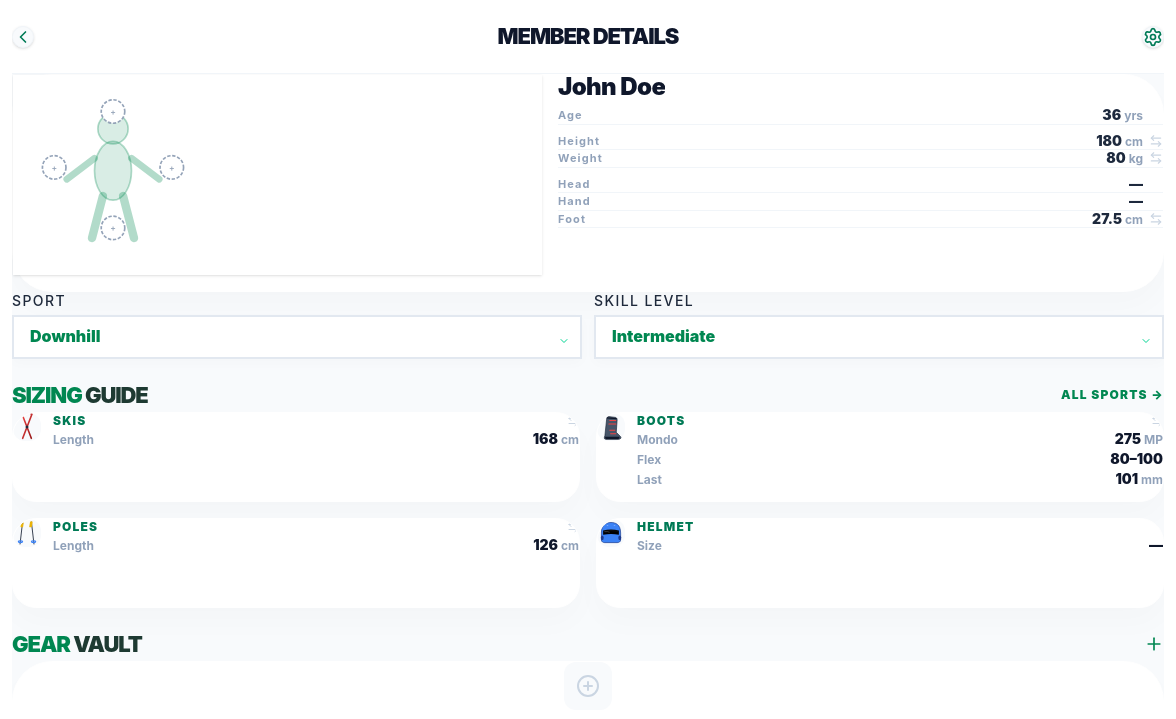
Test: MemberDetail › unit toggles › toggles height from cm to ft format when clicked
Step 1. Click the button with aria-label "toggle height units" → (1130, 141), box [1096, 134, 1163, 148]
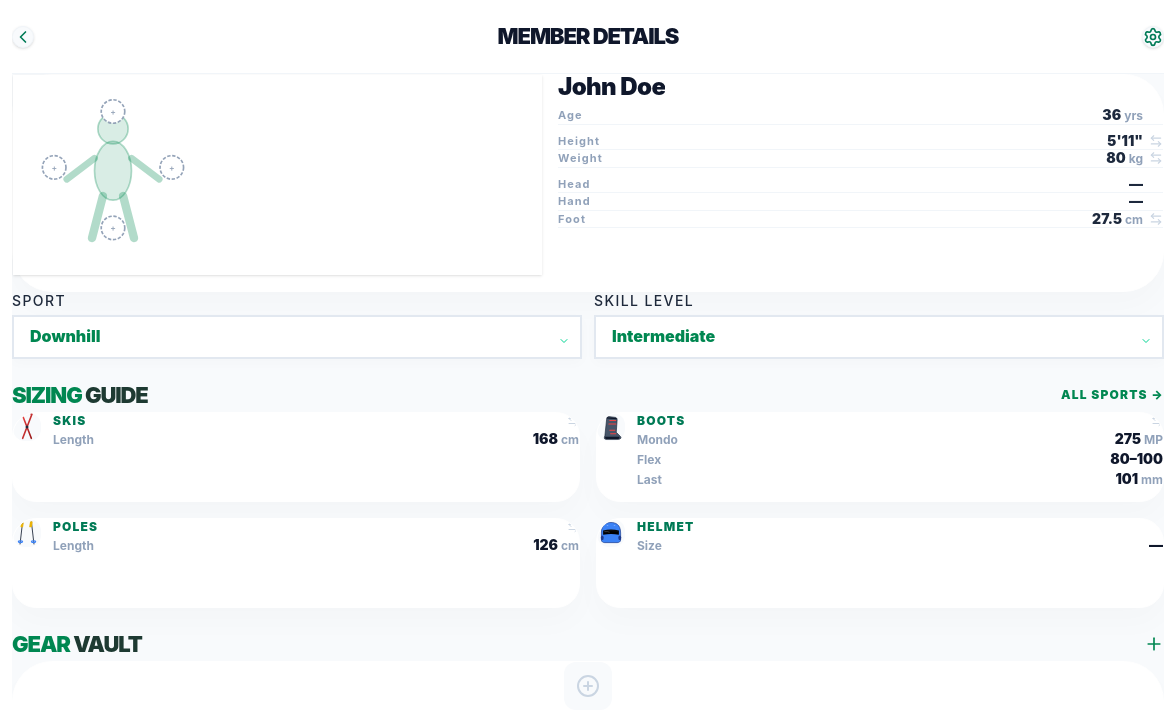
Now the text "5'11\"" is shown, box [1107, 134, 1143, 148]
